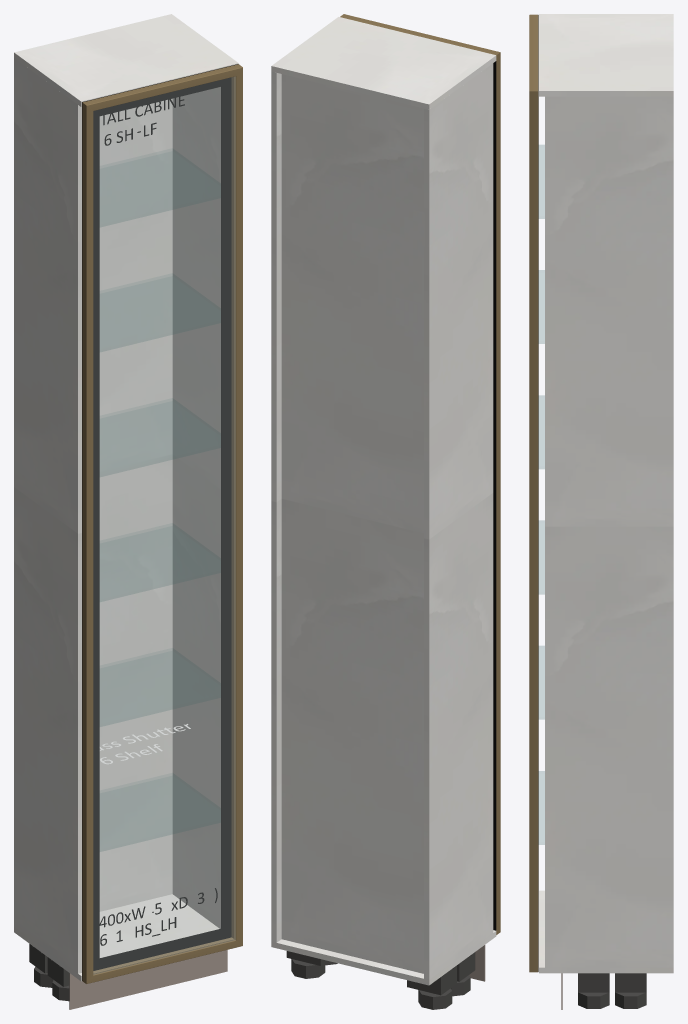
Rendered from TC-REF-TTS-ST-XXX-RHS-XXX-600-2040-560-15.glb.
3 views of the same model, side by side, from view 1: azimuth 30°, elevation 25°; view 2: azimuth 150°, elevation 25°; view 3: azimuth 270°, elevation 25° (orthographic).
Parts seen in each view (by area): view 1: Object_node_29, TP_node_0, TP_node_2, TP_node_1, Neon 22 Profile ALU PROF NEON 20 L21XH22.5MM 3MTR S2/405 SEC (×4), Object_node_31, TP, TP_node, Object_node_33, 2D text, 2D text_node_0; view 2: TP_node_2, TP_node_0, TP, TP_node_1, Neon 22 Profile ALU PROF NEON 20 L21XH22.5MM 3MTR S2/405 SEC (×2), Object_node_31, TP_node, Plate, Foot; view 3: TP_node_1, TP, Neon 22 Profile ALU PROF NEON 20 L21XH22.5MM 3MTR S2/405 SEC (×2), TP_node, Object_node_31, Plate_node, Plate_node_1, Foot_node, Foot_node_1, Object_node_11, Object_node_23, Object_node_26 (+3 smaller).
Part boxes in pixels (x1,y1,x2,y2): Object_node_29: (93,77,235,974); TP_node_0: (14,58,81,973); TP_node_2: (99,98,172,911); TP_node_1: (172,87,220,928); Neon 22 Profile ALU PROF NEON 20 L21XH22.5MM 3MTR S2/405 SEC (×4): (82,64,242,983); Object_node_31: (82,64,238,980); TP: (14,14,238,106); TP_node: (14,894,219,981); Object_node_33: (69,950,227,1009); 2D text: (103,97,184,145); 2D text_node_0: (99,724,190,764); TP_node_2: (281,74,423,973); TP_node_0: (424,63,493,979); TP: (271,17,496,109); TP_node_1: (271,71,281,942); Neon 22 Profile ALU PROF NEON 20 L21XH22.5MM 3MTR S2/405 SEC (×2): (340,14,500,934); Object_node_31: (493,61,496,930); TP_node: (271,930,496,985); Plate: (407,965,456,995); Foot: (418,988,452,1009); TP_node_1: (545,96,673,967); TP: (539,14,673,96); Neon 22 Profile ALU PROF NEON 20 L21XH22.5MM 3MTR S2/405 SEC (×2): (529,14,538,972); TP_node: (539,890,673,973); Object_node_31: (538,15,538,971); Plate_node: (615,973,646,992); Plate_node_1: (578,973,609,992); Foot_node: (615,992,646,1008); Foot_node_1: (578,992,609,1008); Object_node_11: (539,771,544,844); Object_node_23: (539,270,544,343); Object_node_26: (539,145,544,218).
Size of what is drawn, in the model's own units: 0.4502 by 2.5 by 0.356.
Materials: 9 (2 with a texture image).
